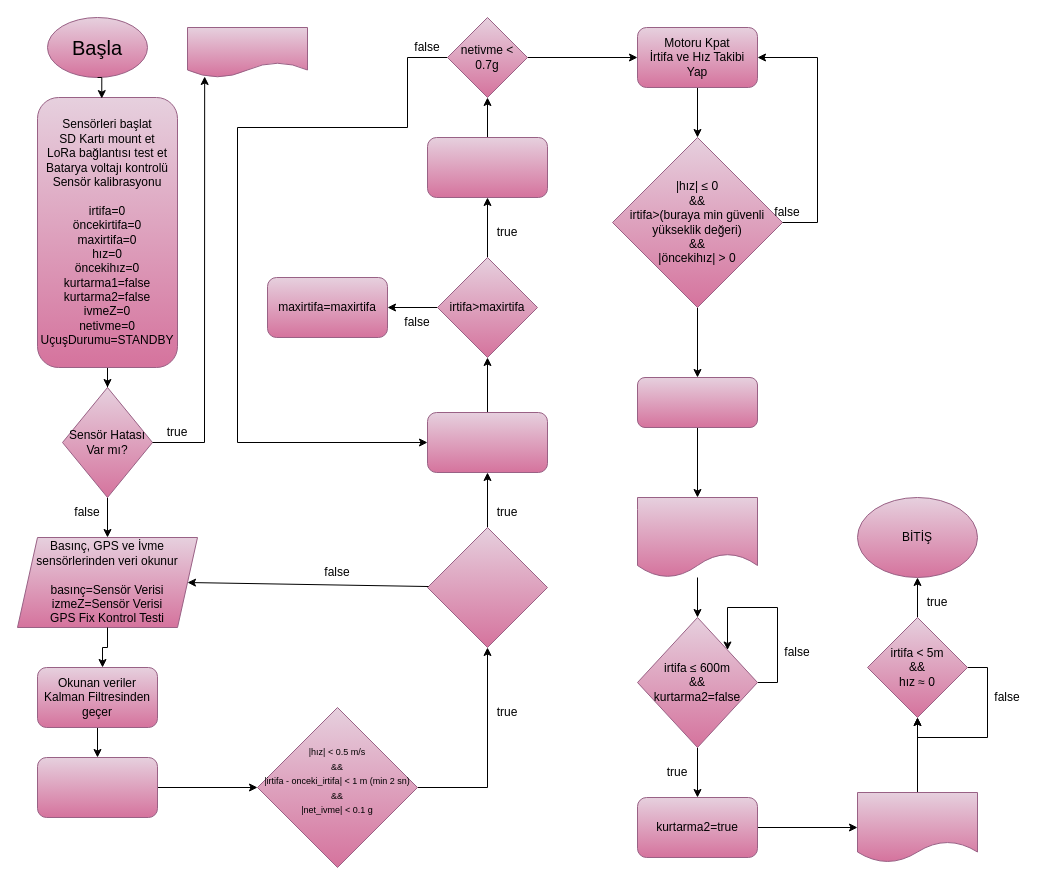
This 1055x885 diagram has some shape labels left out. The box of each missing label's shape, as (x1, y1, x2, y2) in pixels:
Faydalı Yükü Bırak Paraşütü aç: (636, 496, 758, 578)
kurtarma1=true: (636, 376, 758, 428)
LAUNCH INHIBIT: (186, 26, 308, 78)
maxirtifa=irtifa: (426, 136, 548, 198)
netivme > 2g (150 ms sürdü) hız > 0: (426, 526, 548, 648)
netivme=izvemZ-1g: (36, 756, 158, 818)
Paraşüt Aç: (856, 792, 978, 862)
UçuşDurumu=IGNITE save liftoff time: (426, 412, 548, 472)
